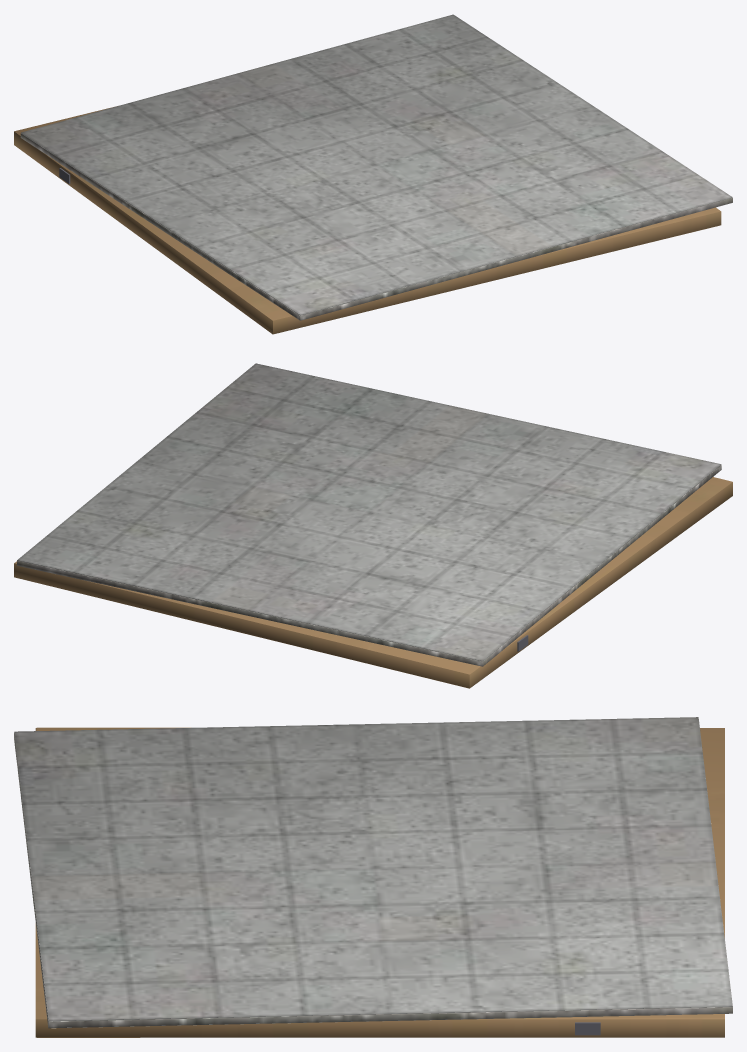
Rendered from PIS-CER-004_lod1.glb.
3 views of the same model, one above another, from view 1: azimuth 30°, elevation 25°; view 2: azimuth 150°, elevation 25°; view 3: azimuth 270°, elevation 25° (orthographic). The views are drawn at different scales.
Visible parts, largest first — view 1: PIS-CER-004_face, PIS-CER-004_caixa, PIS-CER-004_corpo; view 2: PIS-CER-004_face, PIS-CER-004_caixa, PIS-CER-004_corpo; view 3: PIS-CER-004_face, PIS-CER-004_caixa, PIS-CER-004_corpo.
Boxes of the visible parts, x1,y1,x2,y2 form: PIS-CER-004_face: [21, 14, 732, 315]; PIS-CER-004_caixa: [14, 106, 721, 334]; PIS-CER-004_corpo: [20, 133, 732, 320]; PIS-CER-004_face: [17, 363, 721, 661]; PIS-CER-004_caixa: [14, 477, 732, 688]; PIS-CER-004_corpo: [17, 465, 721, 666]; PIS-CER-004_face: [14, 717, 732, 1021]; PIS-CER-004_caixa: [35, 727, 724, 1037]; PIS-CER-004_corpo: [14, 719, 732, 1028].
Size of the model in its own units: 0.8386 by 0.0364 by 0.8383.
6 materials, 4 textured.
